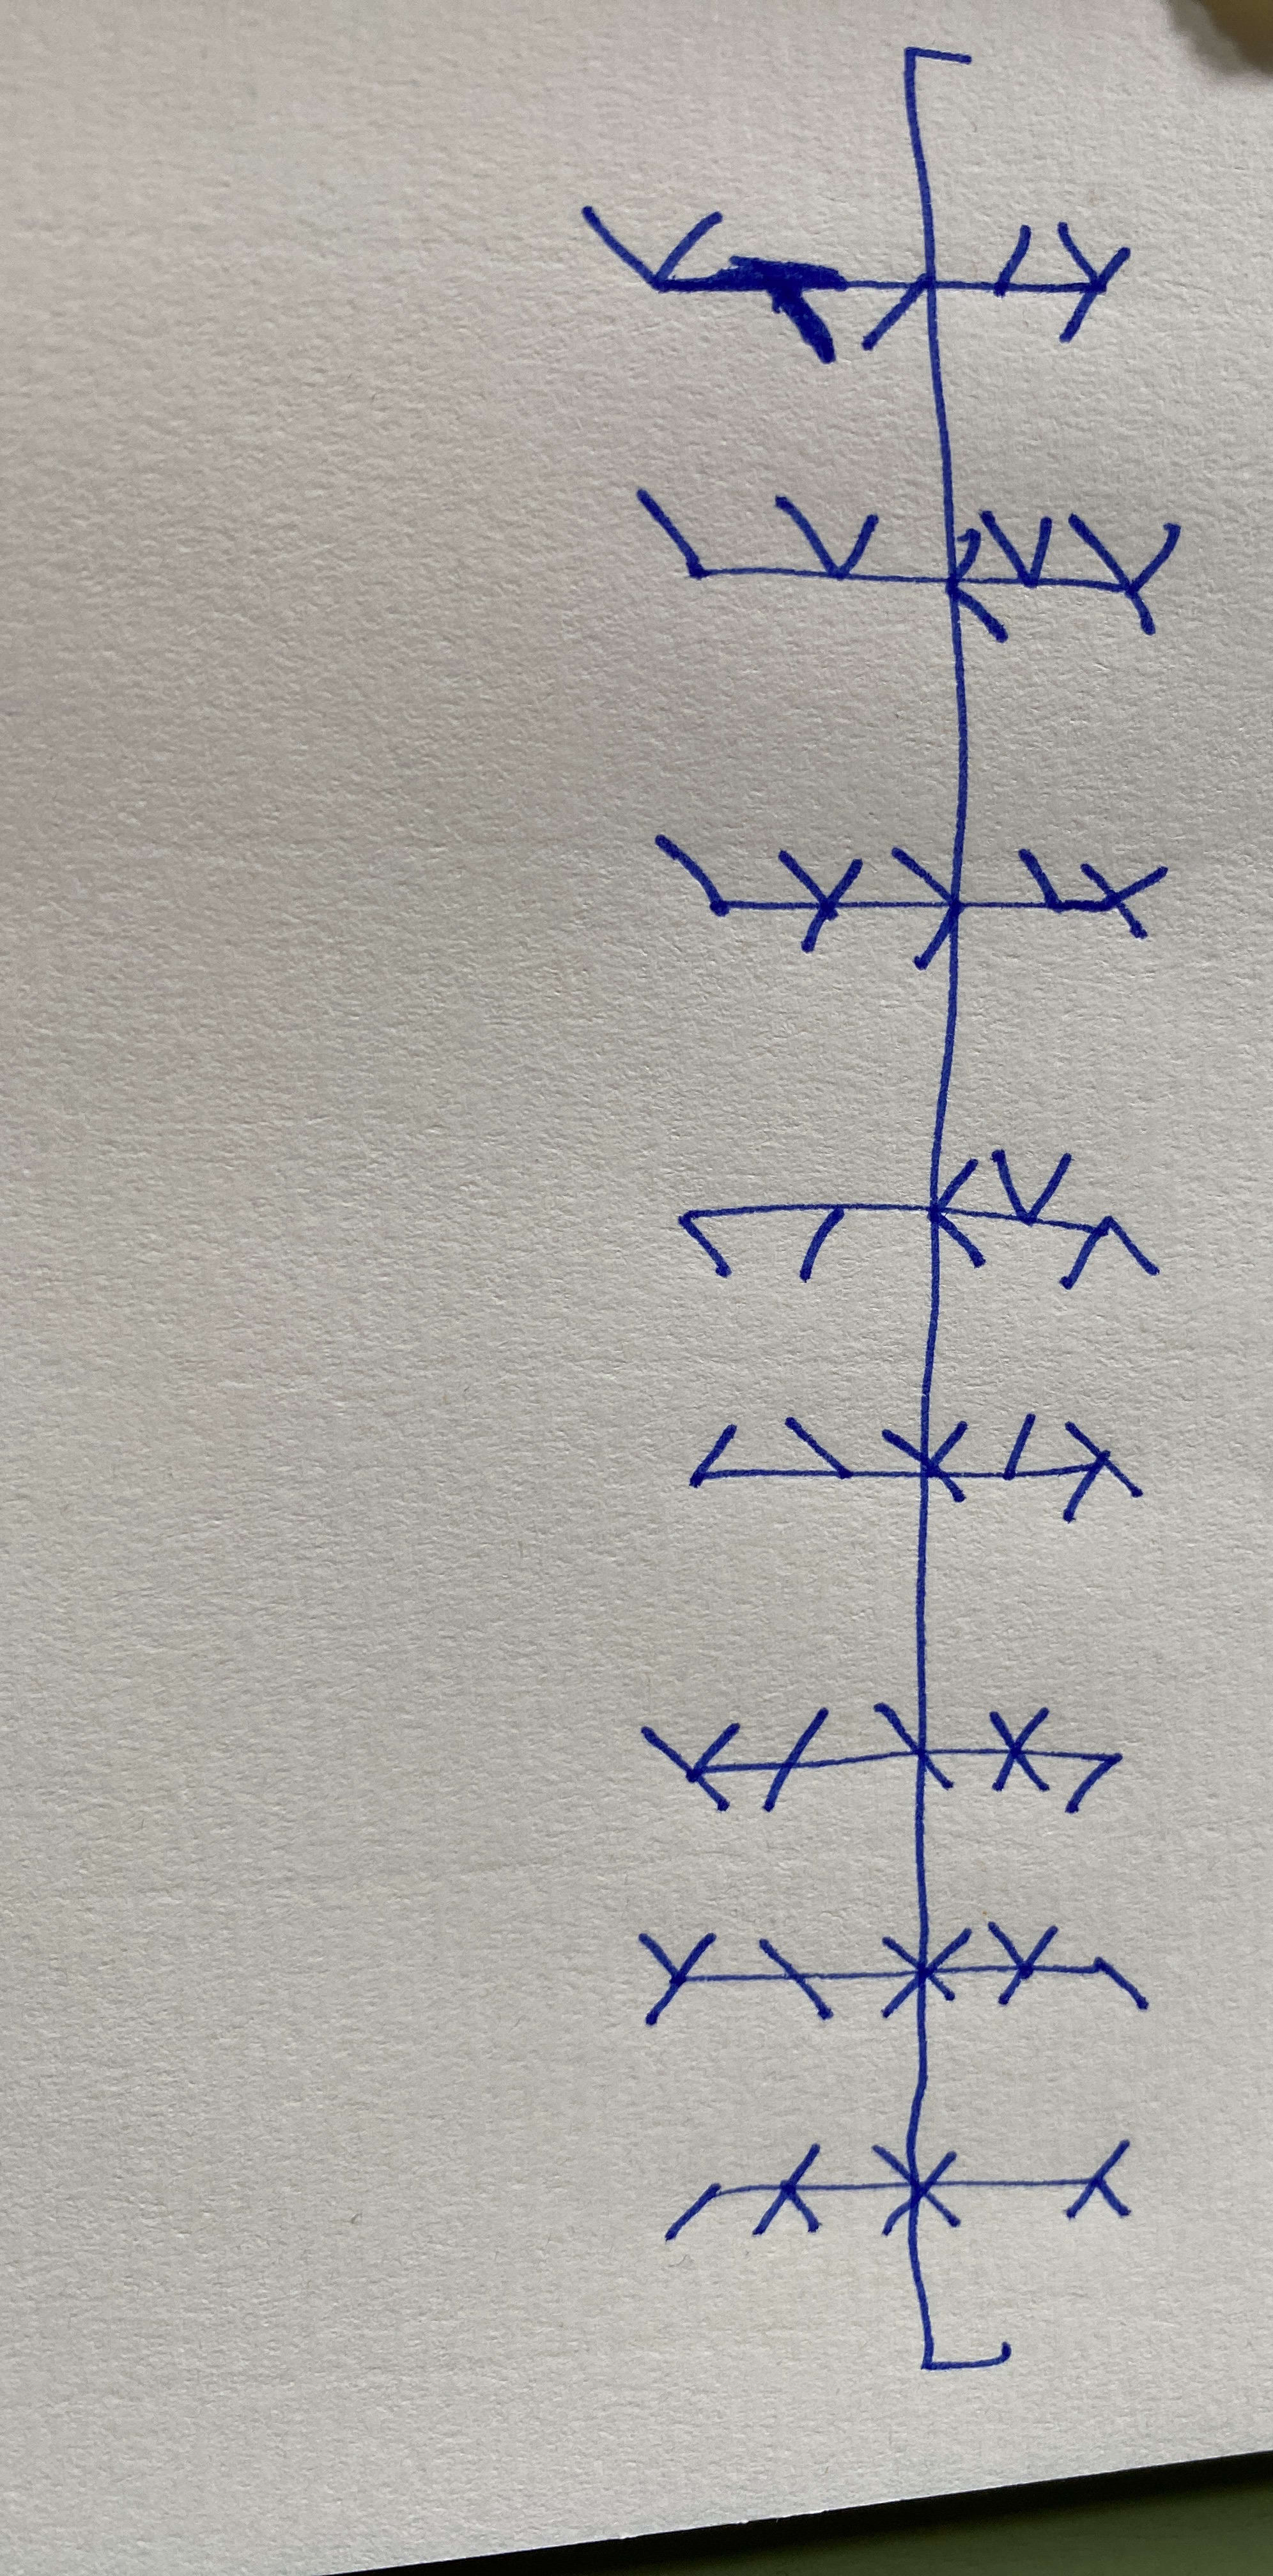Bar: (580, 204, 1133, 365), (634, 488, 1181, 639), (677, 1147, 1161, 1293), (655, 838, 1173, 973), (642, 1700, 1124, 1817), (641, 1920, 1150, 2027), (687, 1414, 1140, 1523), (665, 2141, 1133, 2242)
Barcode: (578, 43, 1184, 2367)
End: (900, 2226, 1013, 2369)
Start: (900, 48, 974, 274)
